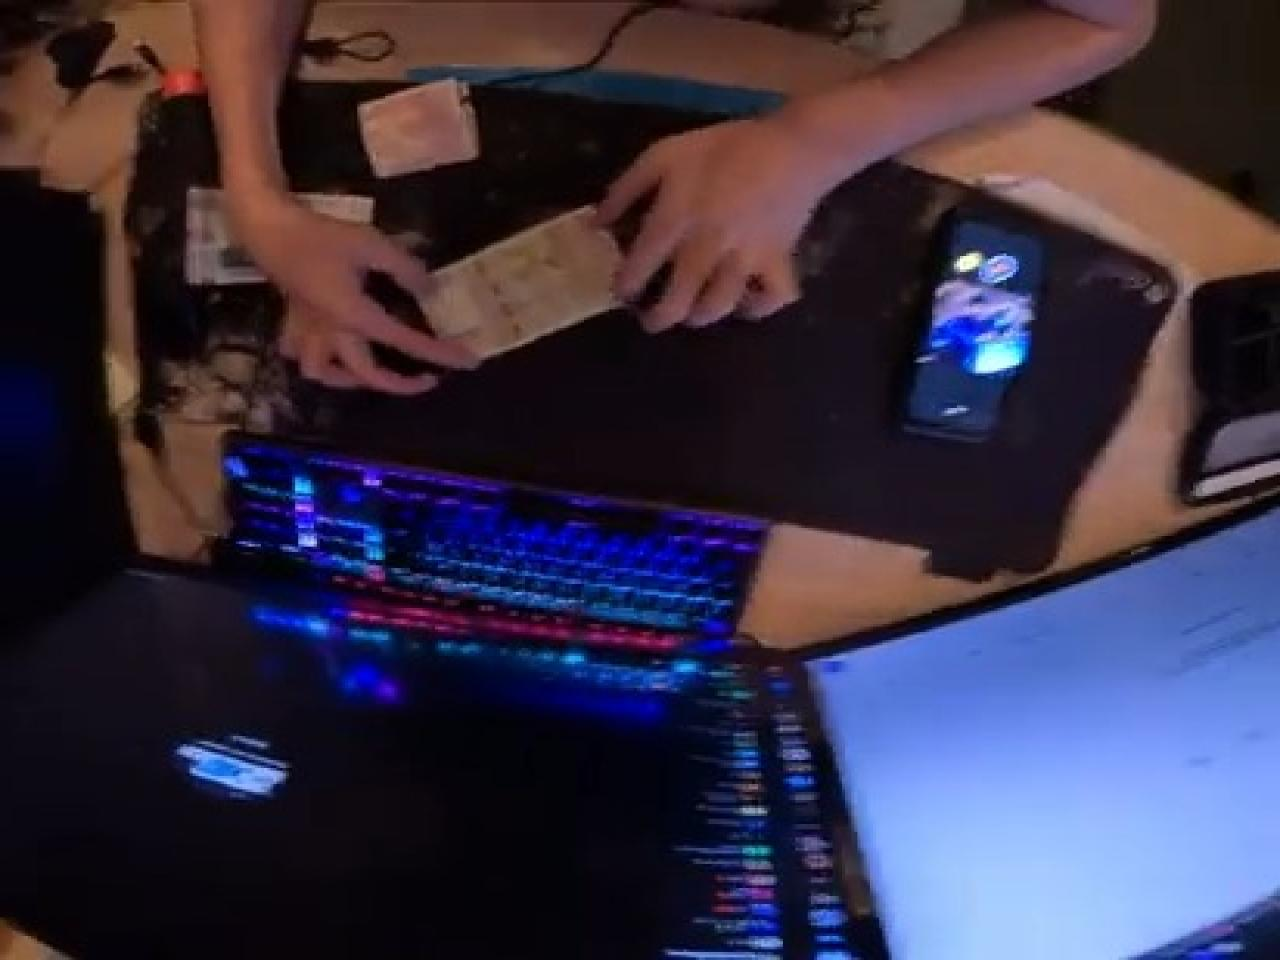50leva: (413, 200, 628, 368)
